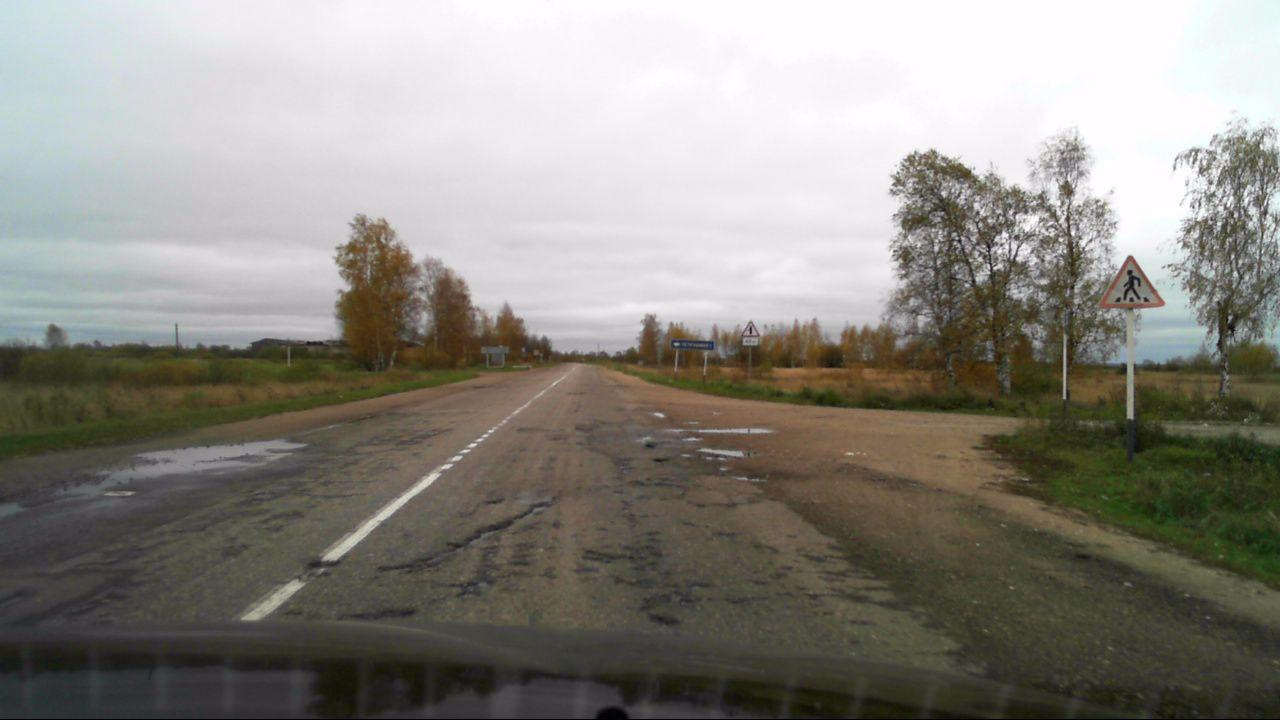pothole: (385, 499, 555, 570)
road_sign: (1094, 251, 1170, 310), (739, 318, 762, 337)
